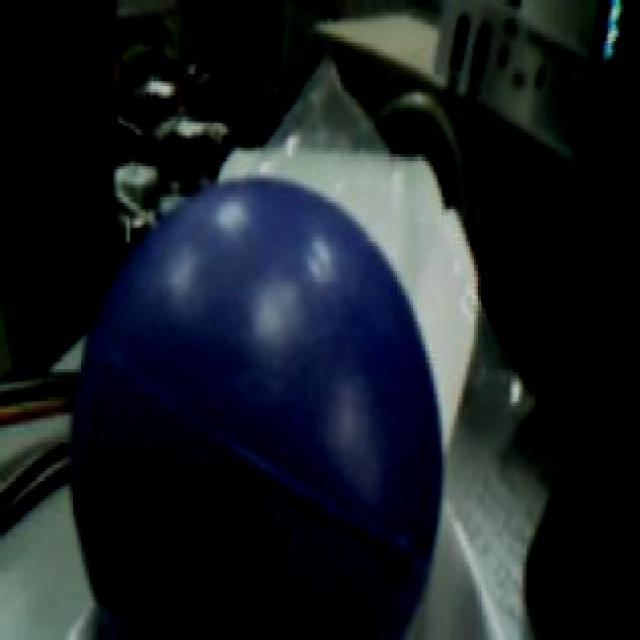BallPurple: (70, 181, 441, 640)
